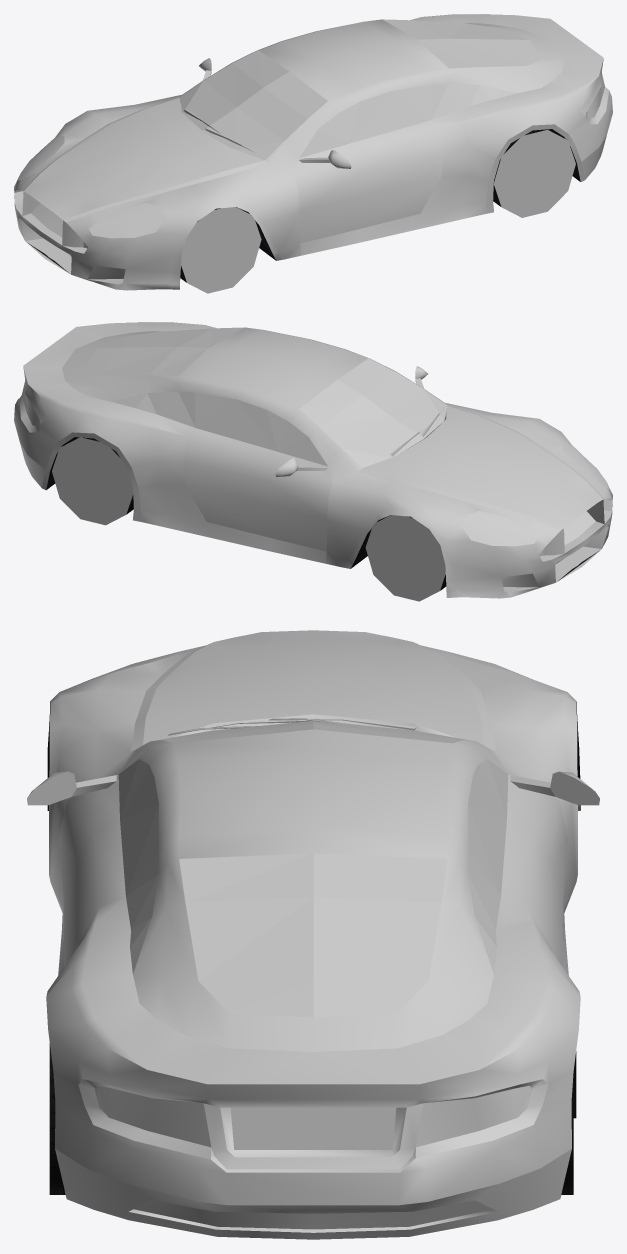
The model's file is LowPolyCar.FBX.
3 views of the same model, one above another, from view 1: azimuth 30°, elevation 25°; view 2: azimuth 150°, elevation 25°; view 3: azimuth 270°, elevation 25° (orthographic). The views are drawn at different scales.
Parts seen in each view (by area): view 1: RegularC_green_body, Chasis; view 2: RegularC_green_body, Chasis; view 3: RegularC_green_body.
Part boxes in pixels (left/top/right/bottom): RegularC_green_body: left=14, top=14, right=612, bottom=293; Chasis: left=27, top=129, right=580, bottom=273; RegularC_green_body: left=14, top=322, right=612, bottom=601; Chasis: left=46, top=437, right=599, bottom=580; RegularC_green_body: left=27, top=630, right=599, bottom=1239.
Size of the model in its own units: 5.48 by 1.38 by 2.48.
